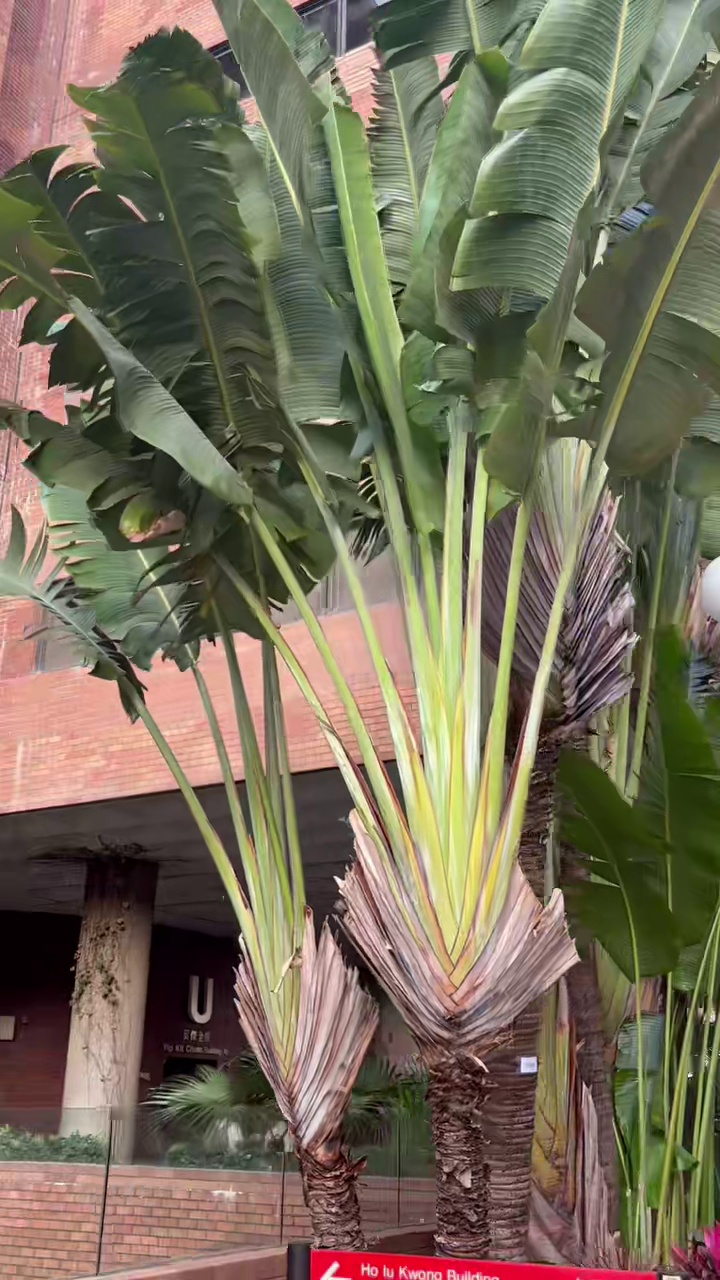Travellers-tree: (0, 0, 656, 1251)
